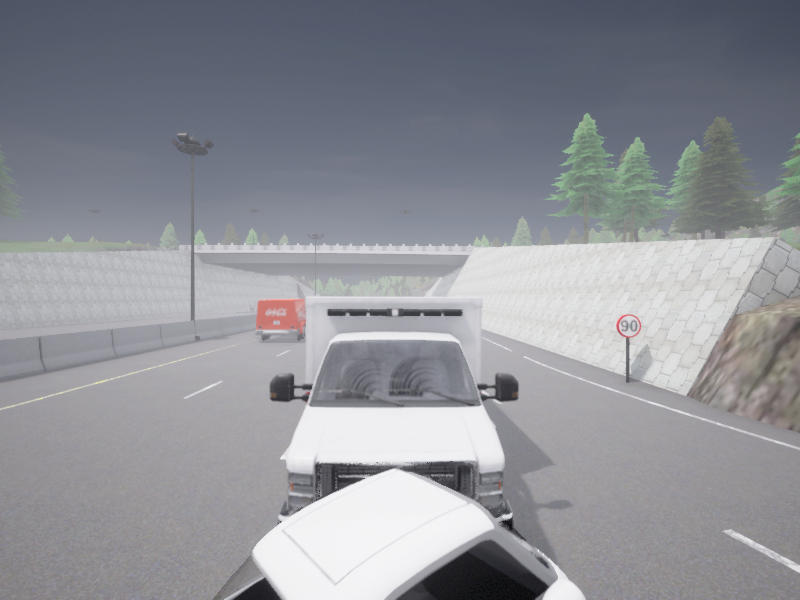vehicle: (269, 296, 518, 528), (211, 469, 585, 599), (255, 299, 305, 339)
